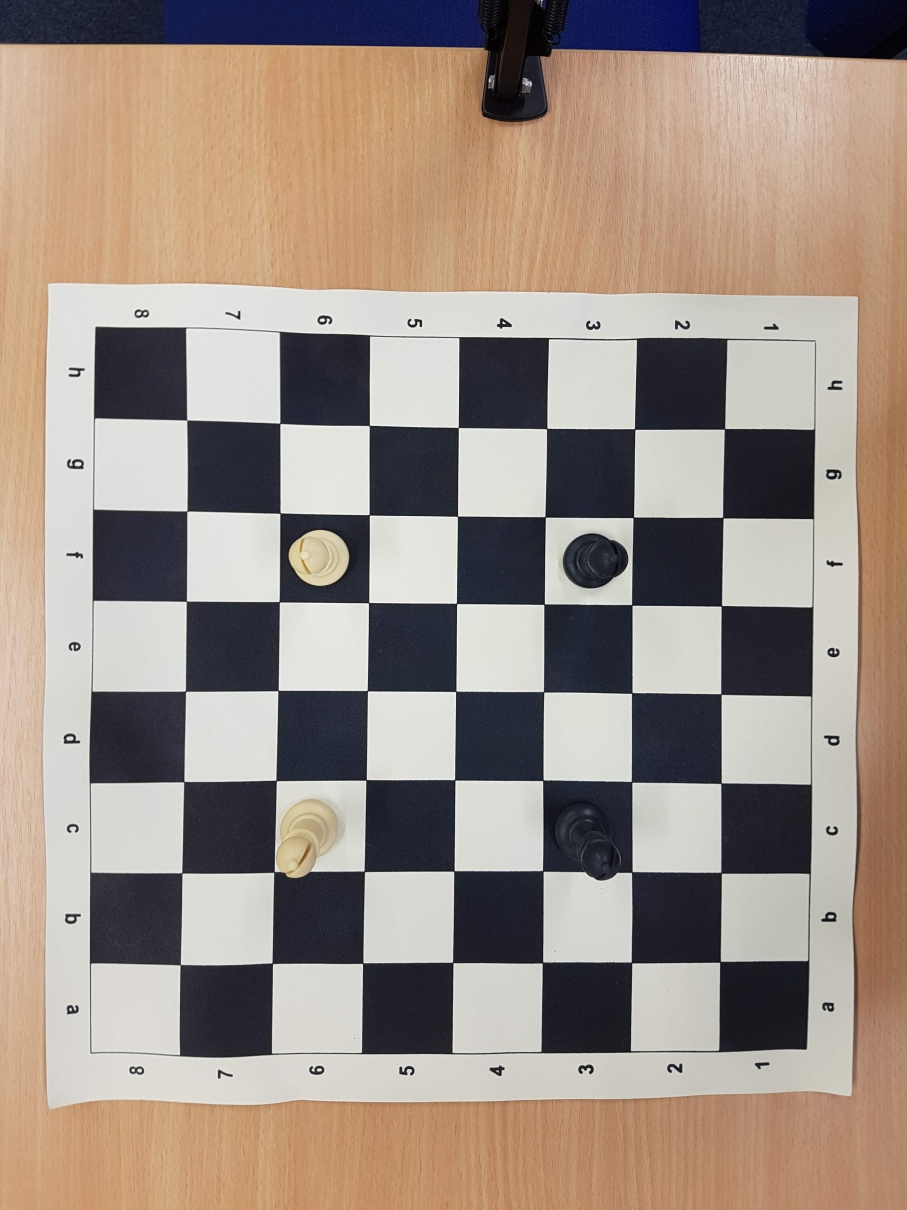chess_bishop: (555, 805, 620, 881), (276, 802, 337, 878), (288, 528, 349, 586), (565, 534, 628, 588)
